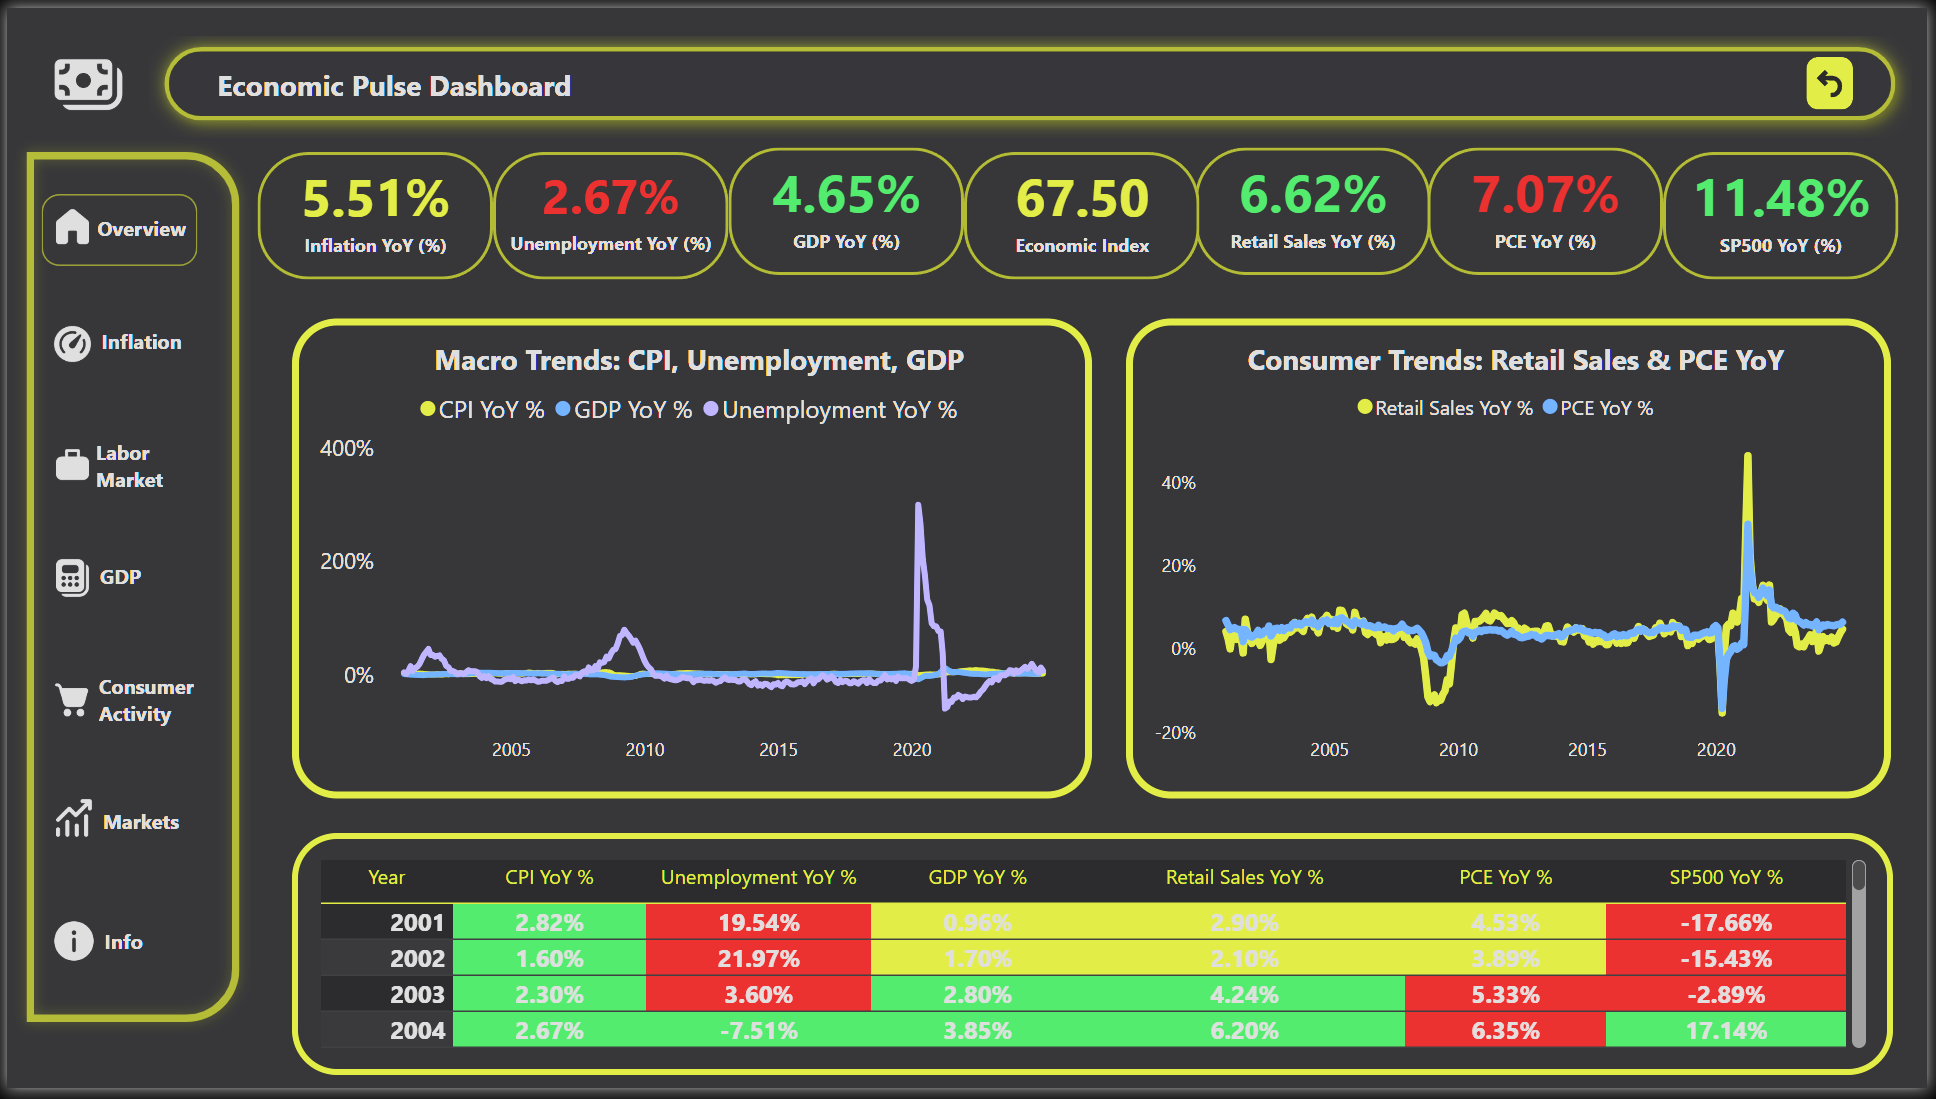

The dashboard page shown, as its layout file describes it:
{"tool":"powerbi","page":{"name":"Overview","canvas":[1280,720],"ordinal":0},"visuals":[{"type":"shape","box":[5.4,88.2,157.8,595.8],"z":0},{"type":"group","id":"g1","title":"Group 2","box":[166.7,90.4,1093.2,93.2],"z":0,"group":"g11"},{"type":"shape","box":[480.7,93,156.7,85.2],"z":0,"group":"g4"},{"type":"shape","box":[792,93,156.7,85.2],"z":0,"group":"g8"},{"type":"shape","box":[946.3,93,156.7,85.2],"z":0,"group":"g6"},{"type":"shape","box":[166.7,95.6,156.7,85.2],"z":0,"group":"g3"},{"type":"shape","box":[323.7,95.6,156.7,85.2],"z":0,"group":"g17"},{"type":"shape","box":[1103.3,95.6,156.7,85.2],"z":0,"group":"g12"},{"type":"shape","box":[637.7,95.8,156.7,85.2],"z":0,"group":"g13"},{"type":"image","box":[29.2,195.4,29.6,58.1],"z":0,"group":"g7"},{"type":"group","id":"g2","title":"Group 14","box":[14.4,23.2,133.4,629.3],"z":1000},{"type":"image","box":[14.4,23.2,80,54.4],"z":1000,"group":"g2"},{"type":"card","fields":{"Values":["Measures_YoY.GDP YoY %"]},"box":[483.4,90.4,151.3,90.5],"z":1000,"group":"g4"},{"type":"card","fields":{"Values":["Measures_YoY.Retail Sales YoY %"]},"box":[794.7,90.4,151.3,90.5],"z":1000,"group":"g8"},{"type":"card","fields":{"Values":["Measures_YoY.PCE YoY %"]},"box":[949,90.4,151.3,90.5],"z":1000,"group":"g6"},{"type":"card","fields":{"Values":["Measures_YoY.CPI YoY %"]},"box":[169.4,93,151.3,90.5],"z":1000,"group":"g3"},{"type":"card","fields":{"Values":["Measures_YoY.Unemployment YoY %"]},"box":[326.4,93,151.3,90.5],"z":1000,"group":"g17"},{"type":"card","fields":{"Values":["Measures_YoY.SP500 YoY %"]},"box":[1106,93,151.3,90.5],"z":1000,"group":"g12"},{"type":"card","fields":{"Values":["Measures_Scoring.Economic Index"]},"box":[640.4,93.2,151.3,90.5],"z":1000,"group":"g13"},{"type":"textbox","box":[38.6,207.6,102.6,51.8],"z":1000,"group":"g7"},{"type":"group","id":"g3","title":"Group 1","box":[166.7,93,156.7,90.5],"z":2000,"group":"g1"},{"type":"shape","box":[17.4,201,104.4,47.4],"z":2000,"group":"g7"},{"type":"lineChart","title":"Macro Trends: CPI, Unemployment, GDP","fields":{"Category":["Calendar.Date.Variation.Date Hierarchy.Year"],"Y":["Measures_YoY.CPI YoY %","Measures_YoY.GDP YoY %","Measures_YoY.Unemployment YoY %"]},"box":[189.7,207.3,533,320.2],"z":2000},{"type":"lineChart","title":"Consumer Trends: Retail Sales & PCE YoY","fields":{"Category":["Calendar.Date.Variation.Date Hierarchy.Year"],"Y":["Measures_YoY.Retail Sales YoY %","Measures_YoY.PCE YoY %"]},"box":[745.8,207.3,509.8,320.2],"z":3000},{"type":"shape","title":"Economic Pulse Dashboard","box":[94.1,14.9,1176.2,70.8],"z":4000},{"type":"group","id":"g4","title":"Group 1","box":[480.7,90.4,156.7,90.5],"z":4000,"group":"g1"},{"type":"group","id":"g5","title":"Group 3","box":[23.4,116.7,112.1,79.1],"z":4000,"group":"g2"},{"type":"image","box":[29.2,116.7,29.6,58.1],"z":4000,"group":"g5"},{"type":"textbox","box":[56.5,436.7,76.2,69.6],"z":4000,"group":"g15"},{"type":"group","id":"g6","title":"Group 1","box":[946.3,90.4,156.7,90.5],"z":5000,"group":"g1"},{"type":"group","id":"g7","title":"Group 4","box":[17.4,195.4,123.8,64],"z":5000,"group":"g2"},{"type":"image","box":[29.2,351.2,29.6,58.1],"z":5000,"group":"g10"},{"type":"tableEx","fields":{"Values":["Calendar.Year","Measures_YoY.CPI YoY %","Measures_YoY.Unemployment YoY %","Measures_YoY.GDP YoY %","Measures_YoY.Retail Sales YoY %","Measures_YoY.PCE YoY %","Measures_YoY.SP500 YoY %"]},"box":[190,550,1067,161],"z":5000},{"type":"actionButton","title":"Reset","box":[1198.3,30.9,34.7,39.6],"z":6000},{"type":"group","id":"g8","title":"Group 1","box":[792,90.4,154,90.5],"z":6000,"group":"g1"},{"type":"image","box":[29.2,276.1,29.6,58.1],"z":6000,"group":"g21"},{"type":"group","id":"g9","title":"Group 10","box":[14.4,351.2,104.4,69.6],"z":6000,"group":"g2"},{"type":"group","id":"g10","title":"Group 6","box":[29.2,351.2,80.9,69.6],"z":6000,"group":"g9"},{"type":"image","box":[29.2,432,29.6,58.1],"z":6000,"group":"g15"},{"type":"group","id":"g11","title":"Group 15","box":[166.7,90.4,1093.2,94.2],"z":7000},{"type":"group","id":"g12","title":"Group 1","box":[1103.3,93,156.7,90.5],"z":7000,"group":"g1"},{"type":"group","id":"g13","title":"Group 1","box":[637.7,93.2,153.9,91.3],"z":7000,"group":"g11"},{"type":"textbox","box":[44.2,131.8,91.3,64],"z":7000,"group":"g5"},{"type":"group","id":"g14","title":"Group 11","box":[25.2,432,107.5,74.4],"z":7000,"group":"g2"},{"type":"image","box":[29.2,511.4,29.6,58.1],"z":7000,"group":"g18"},{"type":"textbox","box":[41.4,364.4,68.7,56.5],"z":8000,"group":"g10"},{"type":"group","id":"g15","title":"Group 7","box":[29.2,432,103.5,74.4],"z":8000,"group":"g14"},{"type":"group","id":"g16","title":"Group 12","box":[22.2,511.4,125.6,76.2],"z":8000,"group":"g2"},{"type":"group","id":"g17","title":"Group 1","box":[323.7,93,156.7,90.5],"z":8001,"group":"g1"},{"type":"group","id":"g18","title":"Group 8","box":[29.2,511.4,118.6,76.2],"z":9000,"group":"g16"},{"type":"group","id":"g19","title":"Group 13","box":[14.4,593.2,111.7,59.3],"z":9000,"group":"g2"},{"type":"image","box":[29.2,593.2,30.6,58.1],"z":9000,"group":"g20"},{"type":"textbox","box":[54.6,280.8,90.4,89.4],"z":10000,"group":"g2"},{"type":"textbox","box":[30.1,527.4,117.6,60.2],"z":10000,"group":"g18"},{"type":"group","id":"g20","title":"Group 9","box":[29.2,593.2,96.9,59.3],"z":10000,"group":"g19"},{"type":"shape","box":[23.4,124.2,104.4,47.4],"z":10001,"group":"g5"},{"type":"group","id":"g21","title":"Group 5","box":[23.4,276.1,93,58.1],"z":11000,"group":"g2"},{"type":"shape","box":[23.4,281.4,93,47.4],"z":11000,"group":"g21"},{"type":"textbox","box":[29.2,607.3,96.9,45.2],"z":11000,"group":"g20"},{"type":"shape","box":[14.4,357,104.4,47.4],"z":12002,"group":"g9"},{"type":"shape","box":[25.2,437.4,104.4,47.4],"z":12004,"group":"g14"},{"type":"shape","box":[22.2,516.6,104.4,47.4],"z":12006,"group":"g16"},{"type":"shape","box":[14.4,598.8,104.4,47.4],"z":12008,"group":"g19"}]}

Visuals, with their boxes in screenshot pixels (x1, y1, x2, y2), scaled from the page's 1280x720 canvas onto the 1936x1099 screenshot:
shape: rect(8, 135, 247, 1044)
"Group 2" group: rect(252, 138, 1906, 280)
shape: rect(727, 142, 964, 272)
shape: rect(1198, 142, 1435, 272)
shape: rect(1431, 142, 1668, 272)
shape: rect(252, 146, 489, 276)
shape: rect(490, 146, 727, 276)
shape: rect(1669, 146, 1906, 276)
shape: rect(965, 146, 1202, 276)
image: rect(44, 298, 89, 387)
"Group 14" group: rect(22, 35, 224, 996)
image: rect(22, 35, 143, 118)
card - Measures_YoY.GDP YoY %: rect(731, 138, 960, 276)
card - Measures_YoY.Retail Sales YoY %: rect(1202, 138, 1431, 276)
card - Measures_YoY.PCE YoY %: rect(1435, 138, 1664, 276)
card - Measures_YoY.CPI YoY %: rect(256, 142, 485, 280)
card - Measures_YoY.Unemployment YoY %: rect(494, 142, 723, 280)
card - Measures_YoY.SP500 YoY %: rect(1673, 142, 1902, 280)
card - Measures_Scoring.Economic Index: rect(969, 142, 1197, 280)
textbox: rect(58, 317, 214, 396)
"Group 1" group: rect(252, 142, 489, 280)
shape: rect(26, 307, 184, 379)
"Macro Trends: CPI, Unemployment, GDP" lineChart: rect(287, 316, 1093, 805)
"Consumer Trends: Retail Sales & PCE YoY" lineChart: rect(1128, 316, 1899, 805)
"Economic Pulse Dashboard" shape: rect(142, 23, 1921, 131)
"Group 1" group: rect(727, 138, 964, 276)
"Group 3" group: rect(35, 178, 205, 299)
image: rect(44, 178, 89, 267)
textbox: rect(85, 667, 201, 773)
"Group 1" group: rect(1431, 138, 1668, 276)
"Group 4" group: rect(26, 298, 214, 396)
image: rect(44, 536, 89, 625)
tableEx - Calendar.Year x Measures_YoY.CPI YoY %: rect(287, 840, 1901, 1085)
"Reset" actionButton: rect(1812, 47, 1865, 108)
"Group 1" group: rect(1198, 138, 1431, 276)
image: rect(44, 421, 89, 510)
"Group 10" group: rect(22, 536, 180, 642)
"Group 6" group: rect(44, 536, 167, 642)
image: rect(44, 659, 89, 748)
"Group 15" group: rect(252, 138, 1906, 282)
"Group 1" group: rect(1669, 142, 1906, 280)
"Group 1" group: rect(965, 142, 1197, 282)
textbox: rect(67, 201, 205, 299)
"Group 11" group: rect(38, 659, 201, 773)
image: rect(44, 781, 89, 869)
textbox: rect(63, 556, 167, 642)
"Group 7" group: rect(44, 659, 201, 773)
"Group 12" group: rect(34, 781, 224, 897)
"Group 1" group: rect(490, 142, 727, 280)
"Group 8" group: rect(44, 781, 224, 897)
"Group 13" group: rect(22, 905, 191, 996)
image: rect(44, 905, 90, 994)
textbox: rect(83, 429, 219, 565)
textbox: rect(46, 805, 223, 897)
"Group 9" group: rect(44, 905, 191, 996)
shape: rect(35, 190, 193, 262)
"Group 5" group: rect(35, 421, 176, 510)
shape: rect(35, 430, 176, 502)
textbox: rect(44, 927, 191, 996)
shape: rect(22, 545, 180, 617)
shape: rect(38, 668, 196, 740)
shape: rect(34, 789, 191, 861)
shape: rect(22, 914, 180, 986)
